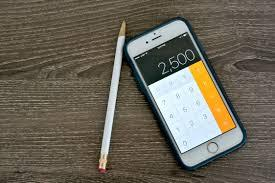Calculator: (141, 46, 239, 156)
